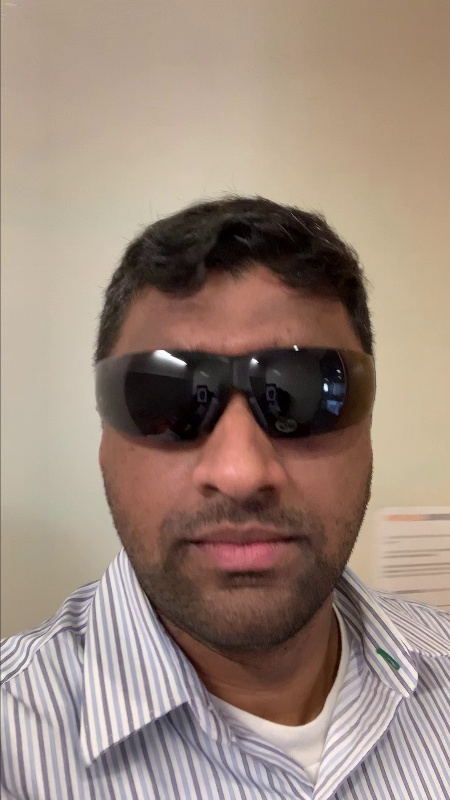glasses: (73, 341, 394, 451)
